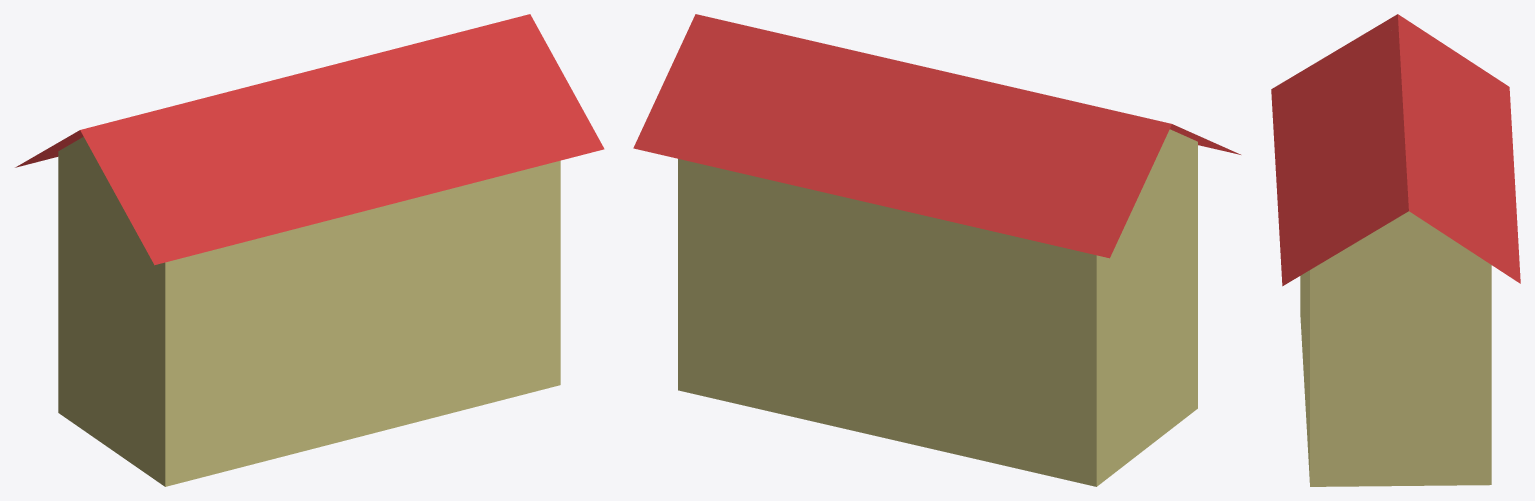
3 views of the same model, side by side, from view 1: azimuth 30°, elevation 25°; view 2: azimuth 150°, elevation 25°; view 3: azimuth 270°, elevation 25° (orthographic). The views are drawn at different scales.
Size of the model in its own units: 16.62 by 8.78 by 11.14.
